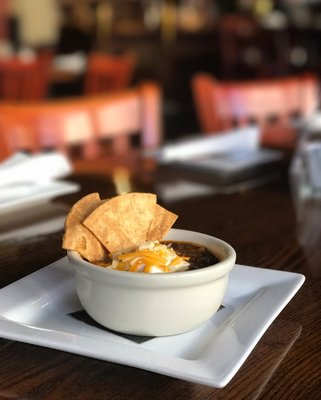sushi: (65, 233, 237, 337)
